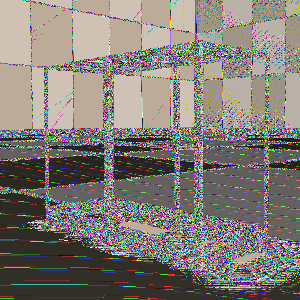Rack: (42, 38, 270, 272)
